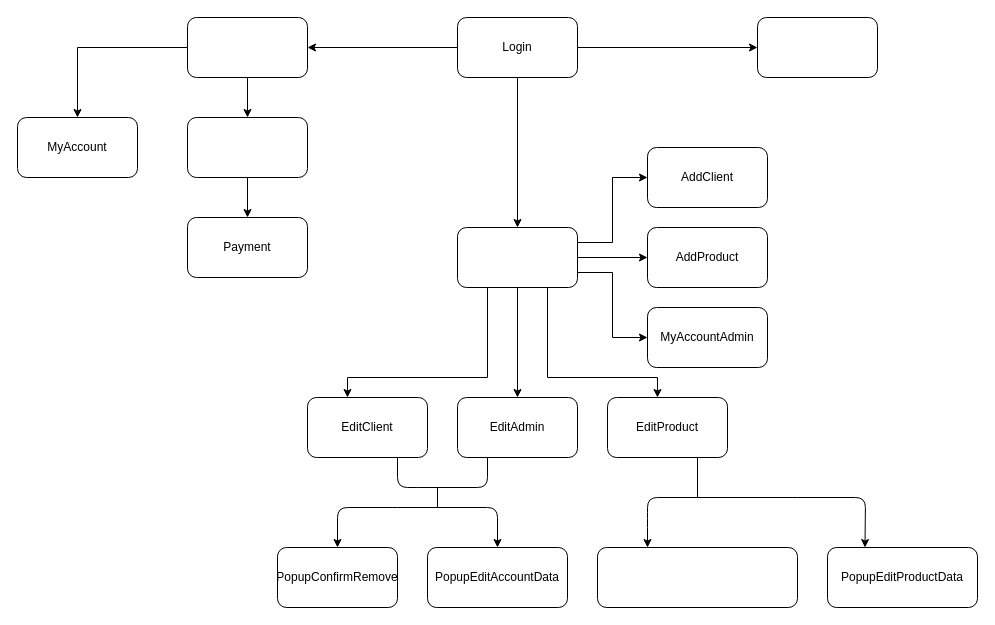
This 995x625 diagram has some shape labels left out. Each missing label, with the centre of its shape:
"AddAdmin" belongs at (517,257).
"Homepage" belongs at (247,47).
"PopupConfirmRemoveProduct" belongs at (697,577).
"Shipping" belongs at (247,147).
"Sign Up" belongs at (817,47).
